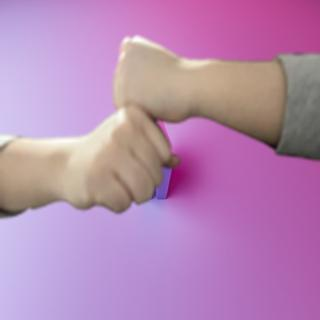CAREFUL: (13, 33, 294, 219)
